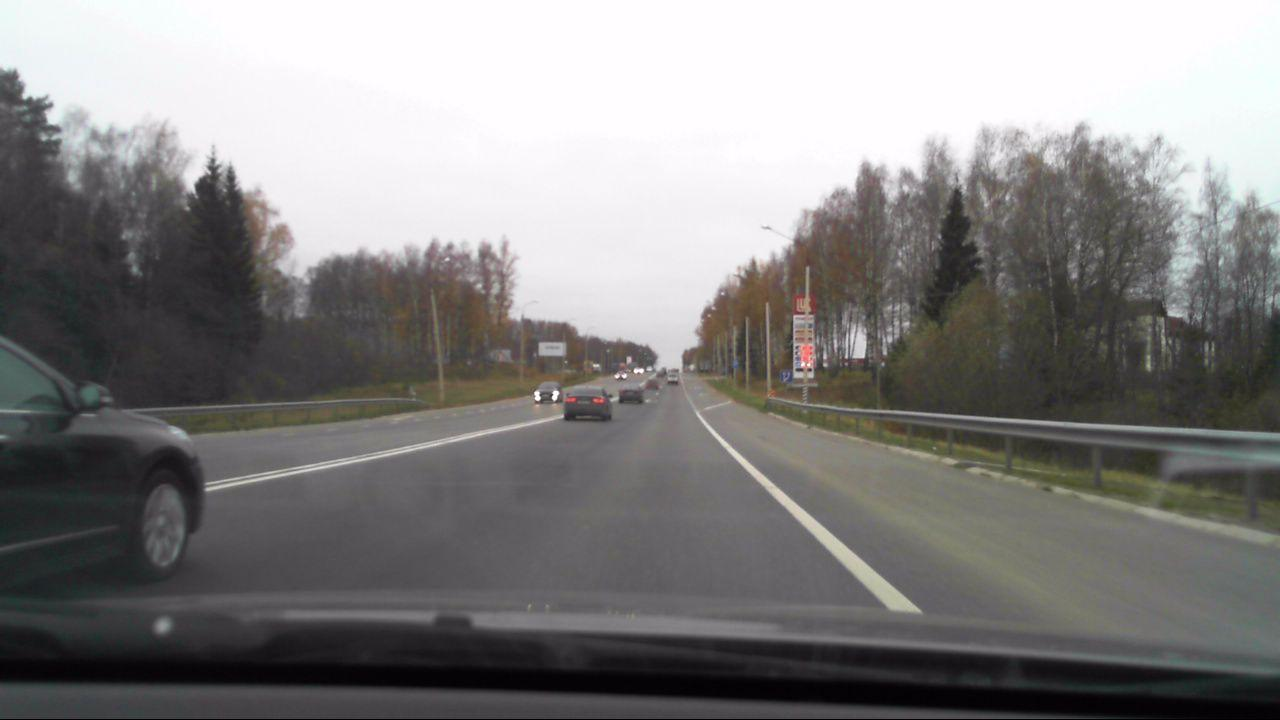5_15_3: (777, 367, 793, 384)
